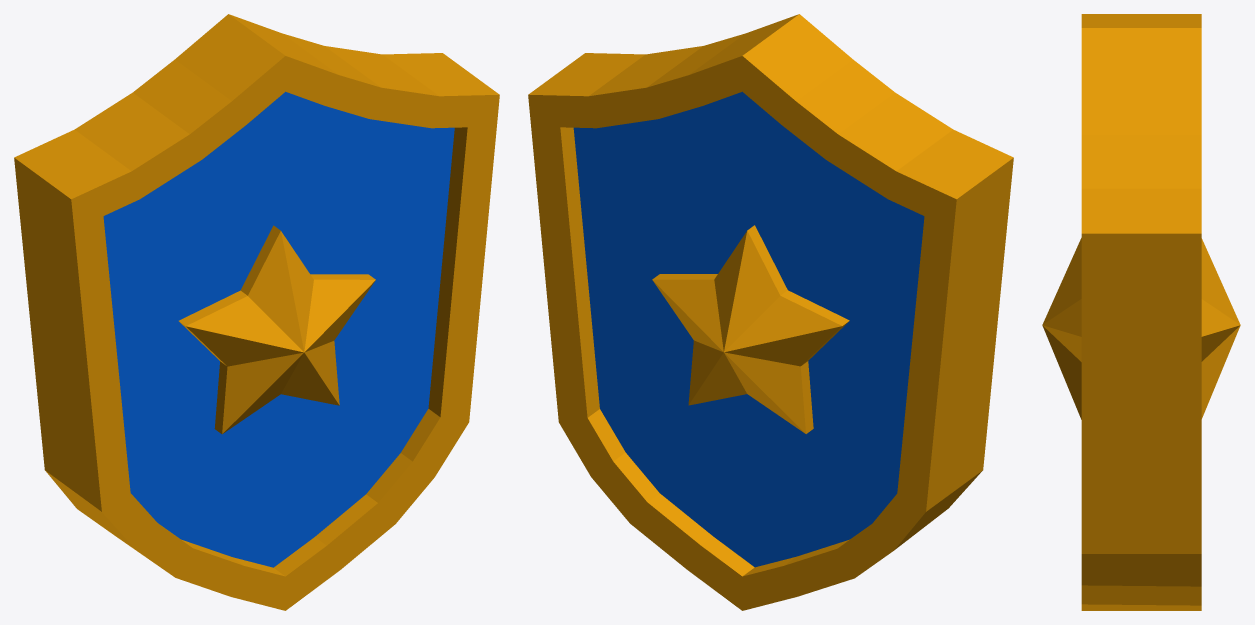
File: Shield.fbx
3 renders of one model, left to right at view 1: azimuth 30°, elevation 25°; view 2: azimuth 150°, elevation 25°; view 3: azimuth 270°, elevation 25°, orthographic. The views are drawn at different scales.
Parts seen in each view (by area): view 1: Cylinder.002; view 2: Cylinder.002; view 3: Cylinder.002.
Part boxes in pixels (<box>): Cylinder.002: <box>14,14,499,610</box>; Cylinder.002: <box>528,14,1013,610</box>; Cylinder.002: <box>1042,14,1240,610</box>.
Bounding box in the file's own units: 173 × 214 × 66.12.
